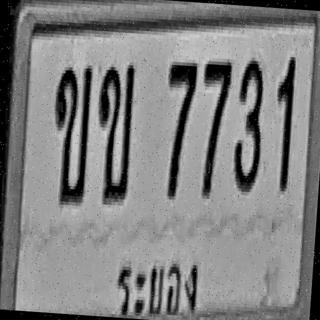A02: (48, 62, 93, 205), (92, 60, 136, 203)
N01: (270, 53, 296, 191)
N03: (231, 56, 267, 192)
N07: (160, 58, 198, 200), (196, 56, 233, 198)
P53: (113, 245, 201, 320)
